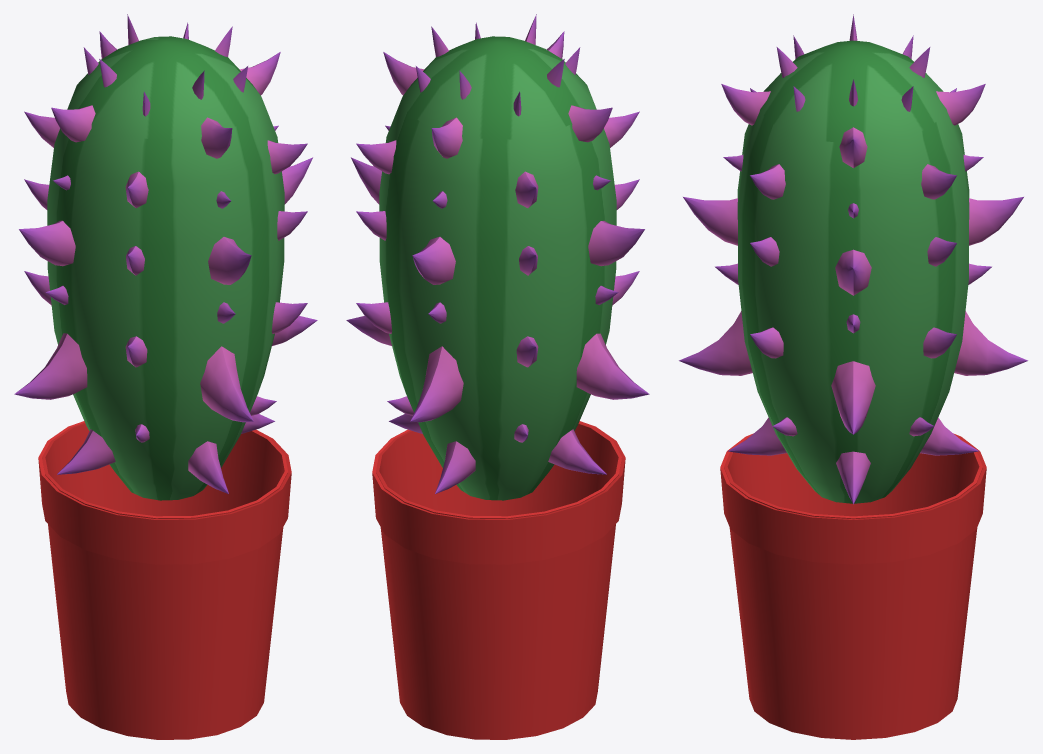
Rendered from Cactus_3_model.fbx.
3 renders of one model, left to right at view 1: azimuth 30°, elevation 25°; view 2: azimuth 150°, elevation 25°; view 3: azimuth 270°, elevation 25°, orthographic.
Parts seen in each view (by area): view 1: polySurface45; view 2: polySurface45; view 3: polySurface45.
Boxes of the visible parts, <box> form: polySurface45: <box>14,14,317,739</box>; polySurface45: <box>346,14,649,739</box>; polySurface45: <box>679,14,1027,739</box>.
Size of the model in its own units: 5.12 by 10.53 by 5.12.
Materials: 1 (1 with a texture image).
